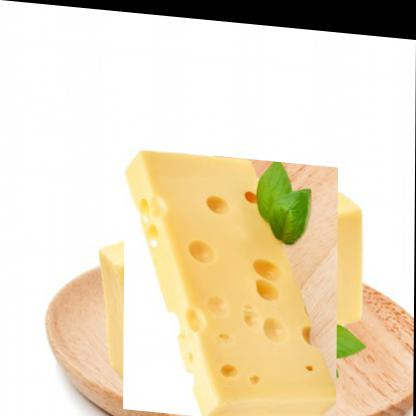cheese: (111, 155, 352, 412)
